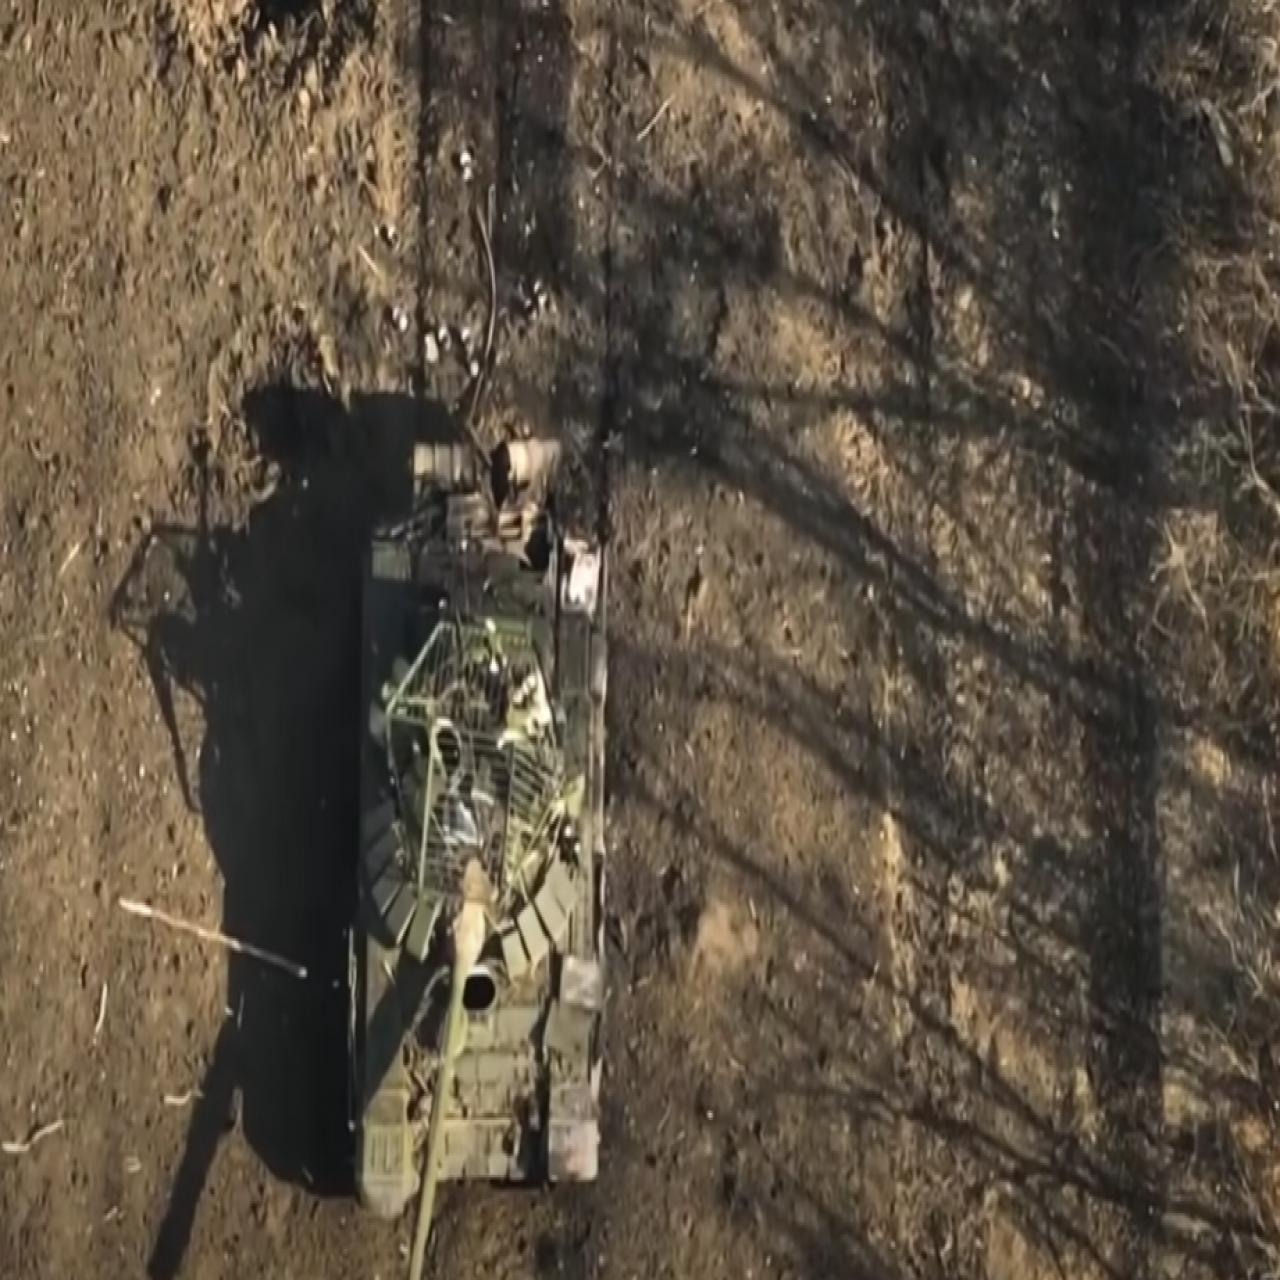MIL_Veh: (331, 433, 601, 1280)
